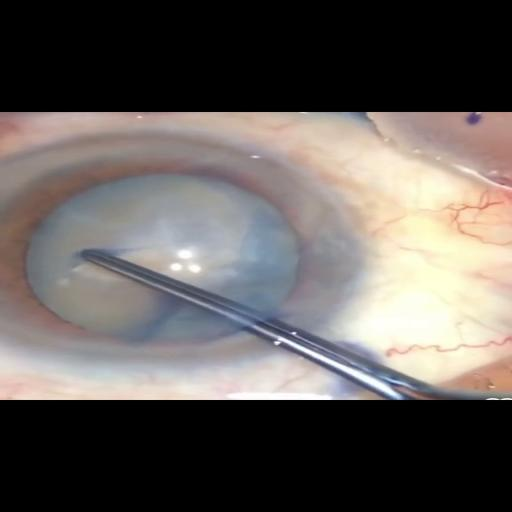catarata: (29, 174, 297, 338)
cornea: (0, 126, 370, 357)
pupil: (0, 149, 331, 345)
